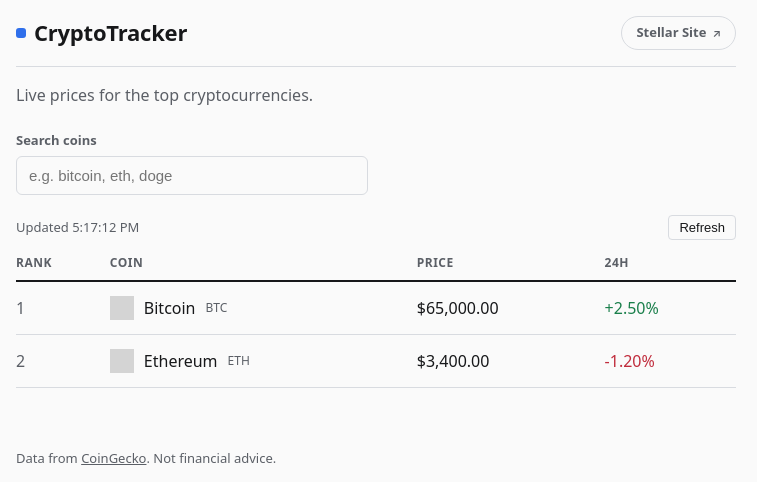
Scenario: App › shows a refresh control after load and refetches on click
Expected: the table is shown, [16,254,736,388]
Expected: the text "Updated 5:17:12 PM" is shown, [16,218,139,237]
Click the button "Refresh".
click(702, 228)  # box [668,215,736,240]
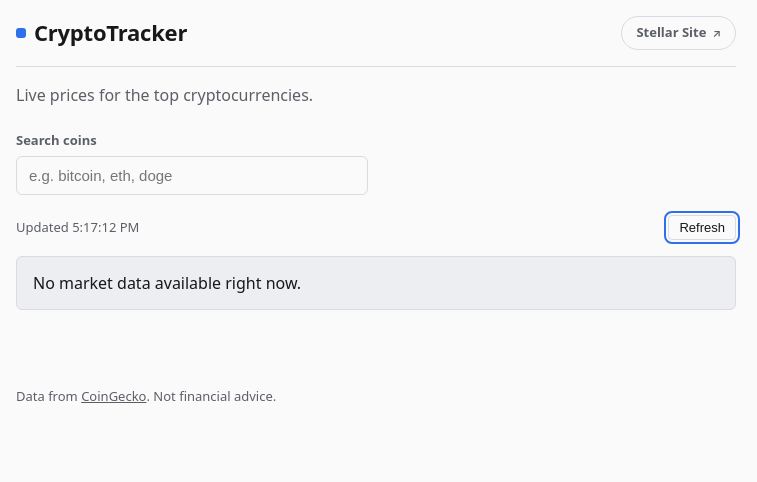
Now the text "No market data available right now." is shown, box [16,256,736,310]
